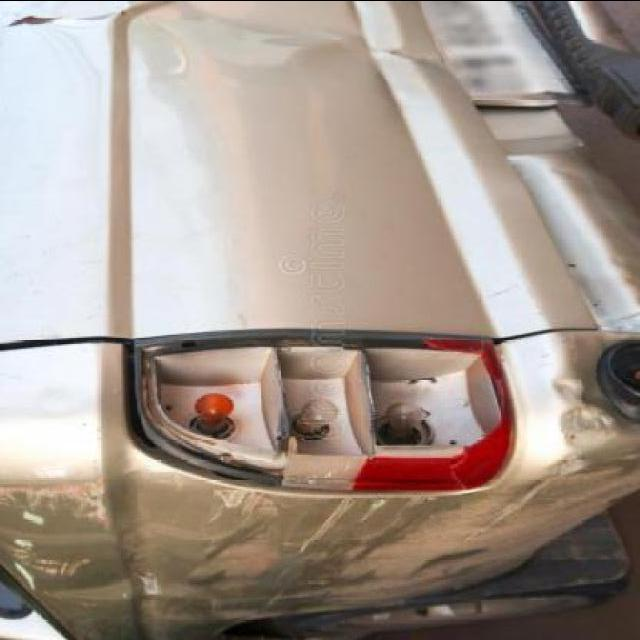Signlight-Damage: (139, 334, 268, 494)
Taillight-Damage: (117, 327, 544, 486)
